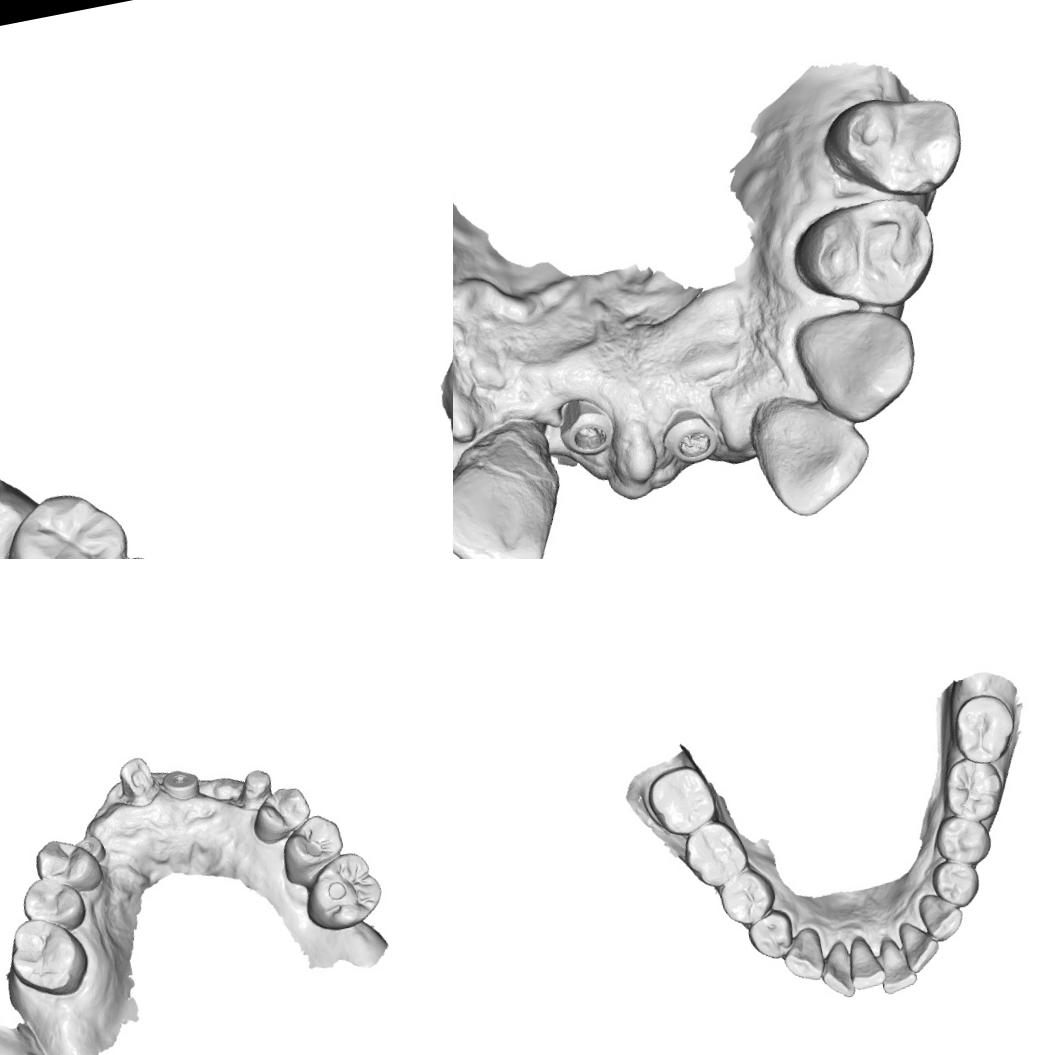canine: (790, 299, 927, 432), (776, 923, 830, 988), (914, 886, 969, 946)
crown: (113, 750, 165, 810), (230, 756, 280, 809)
implant: (652, 396, 725, 466), (550, 393, 619, 463), (156, 760, 207, 806), (68, 828, 110, 870)
incisor: (745, 383, 882, 526), (453, 430, 571, 559), (813, 936, 860, 1004), (894, 915, 944, 975), (840, 930, 888, 992), (873, 934, 919, 997)
molar: (0, 484, 136, 559), (0, 908, 96, 1006), (294, 846, 389, 936), (640, 758, 722, 841), (676, 813, 753, 894), (946, 687, 1022, 769), (937, 751, 1010, 827)
premolar: (784, 190, 947, 324), (815, 79, 973, 212), (272, 809, 350, 884), (29, 831, 105, 900), (15, 870, 89, 940), (713, 864, 782, 931), (245, 780, 316, 844), (928, 807, 994, 871), (742, 904, 798, 966), (927, 854, 985, 913)
